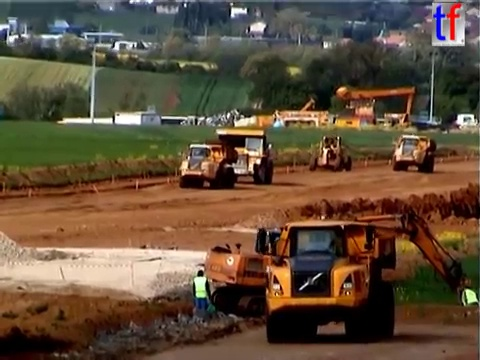crane: (334, 83, 417, 131)
excavator: (201, 202, 480, 325)
motor grader: (308, 135, 351, 171)
truck: (253, 218, 399, 345), (212, 126, 274, 185), (177, 138, 239, 189), (389, 132, 437, 174)
worker: (190, 266, 213, 327), (457, 281, 480, 330)
